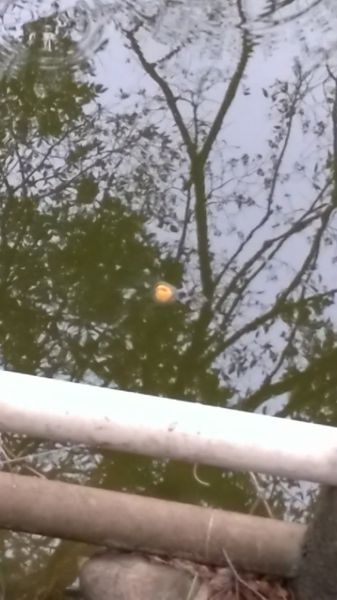eggs: (150, 280, 176, 304)
